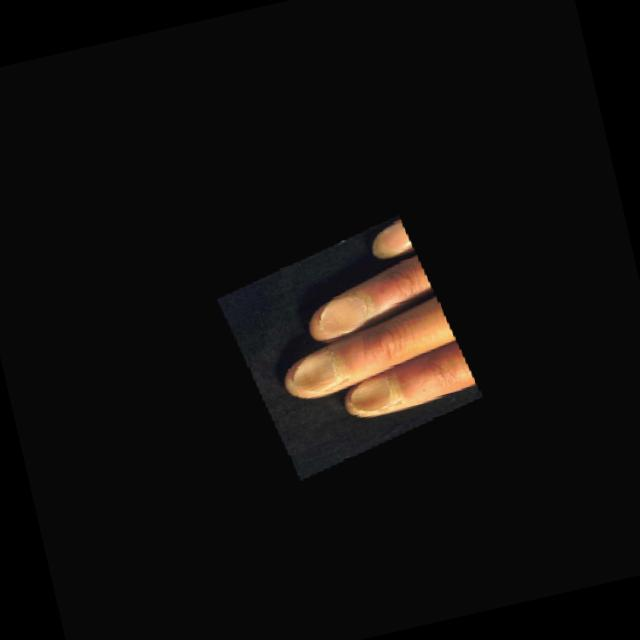Nail: (320, 295, 371, 335), (292, 351, 335, 391), (350, 375, 390, 411)
